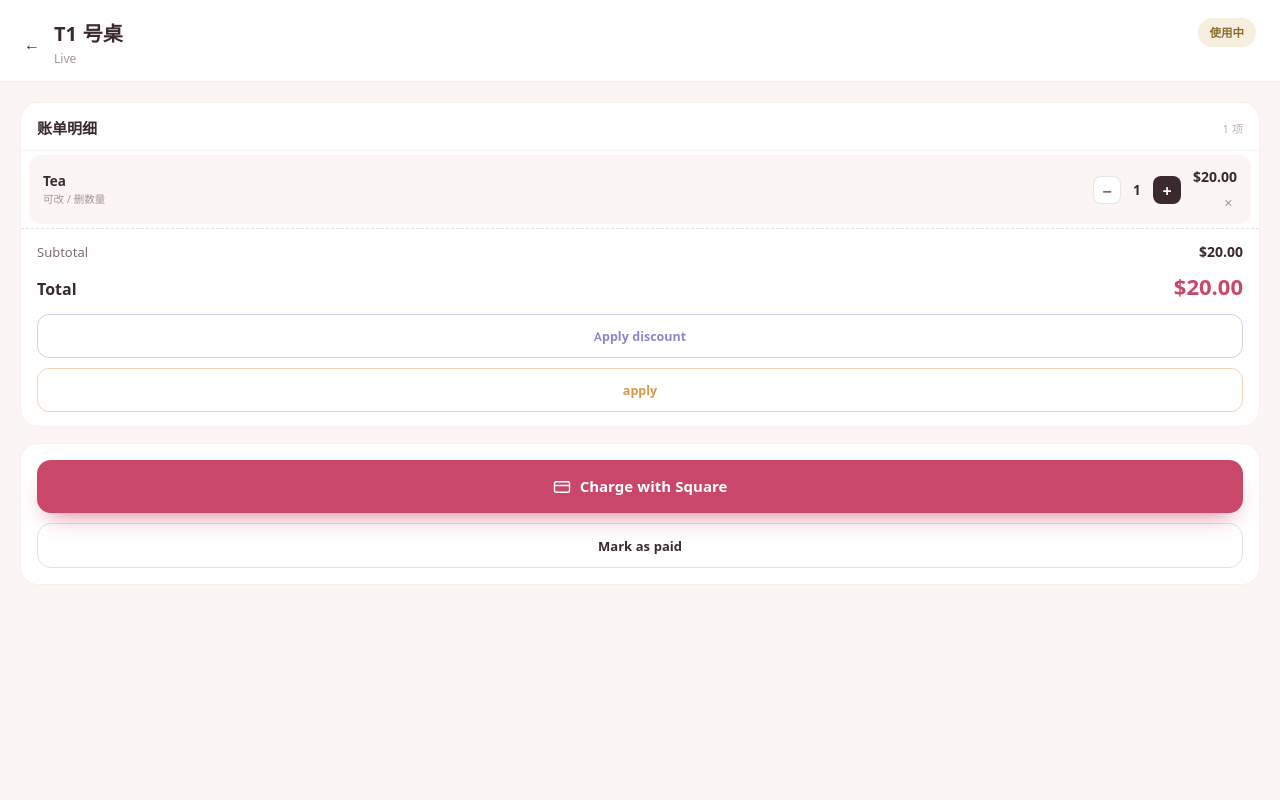
Test case: TableDetail — apply discount › surfaces a 422 invalid-value backend error
Click the button "Apply discount" at [640, 336], box [37, 314, 1243, 358]
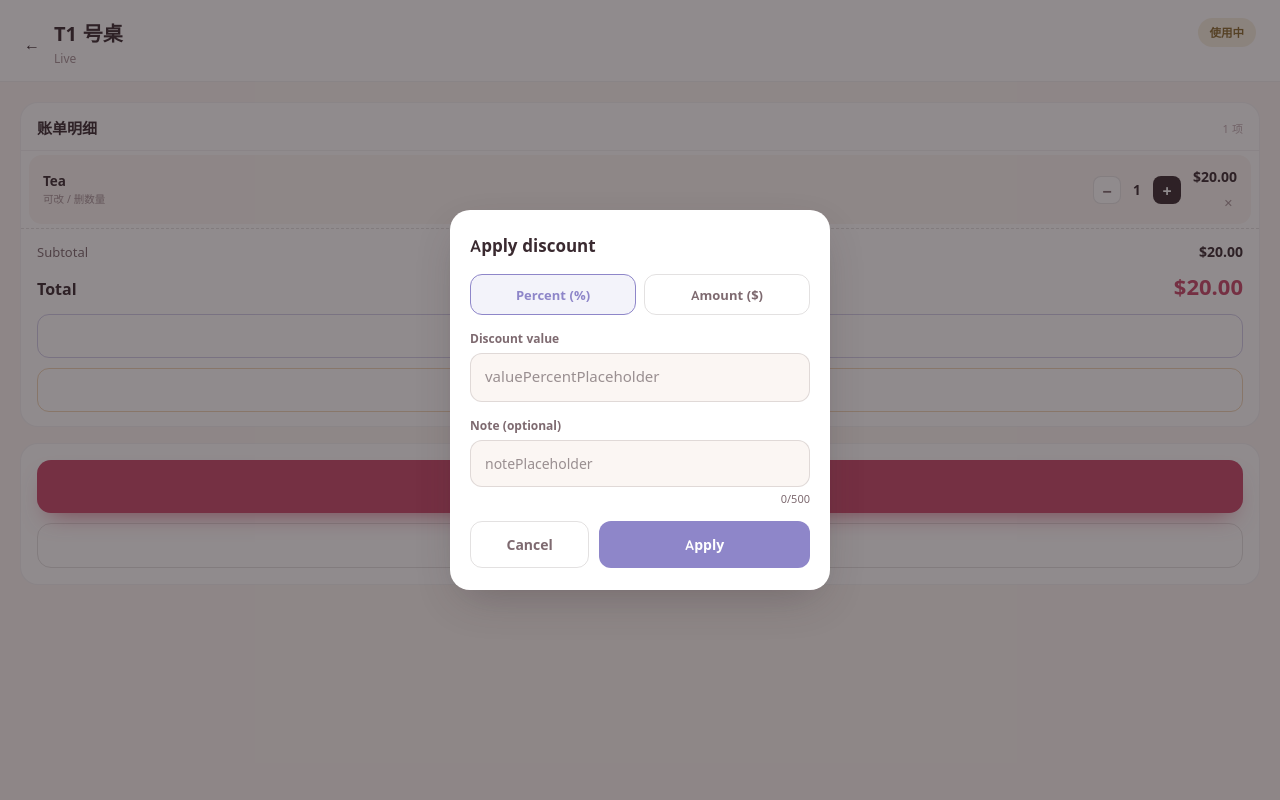
Type "10" into the number field labelled "Discount value" at [640, 377], box [470, 353, 810, 402]
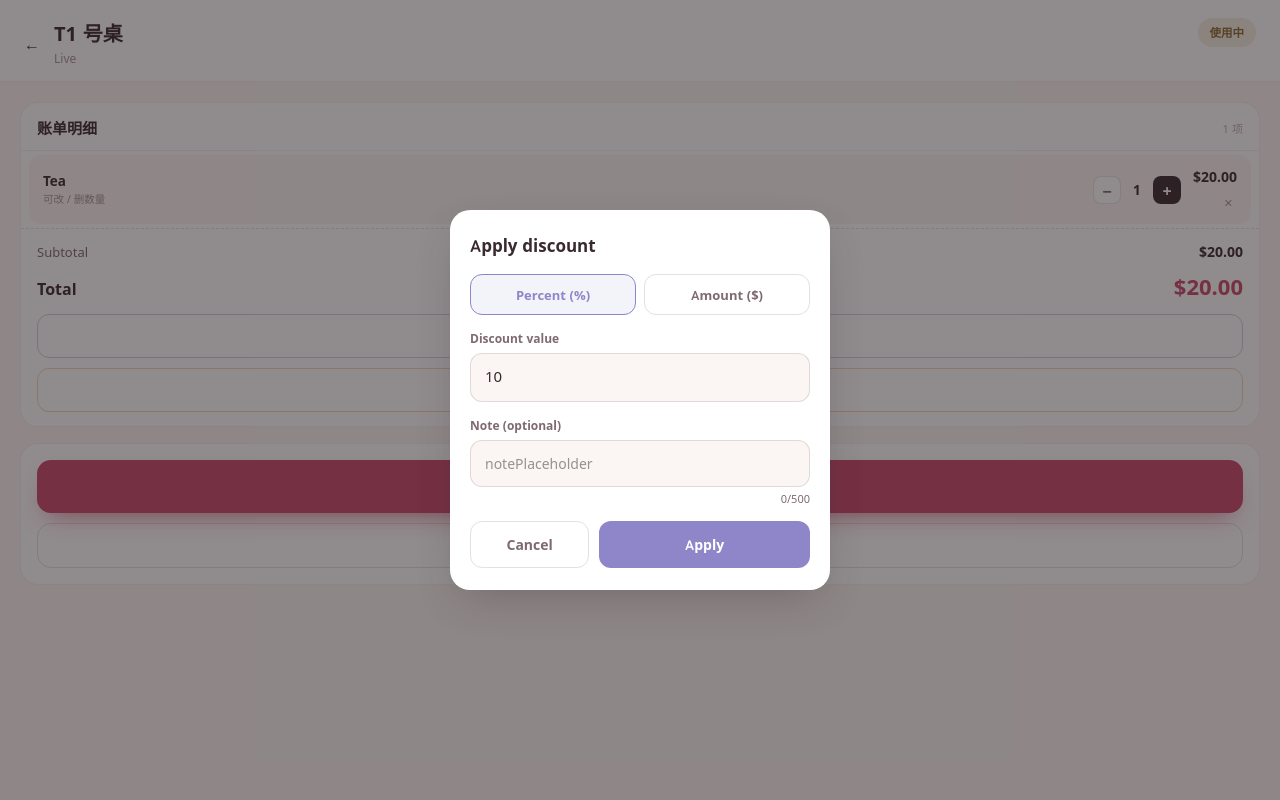
Click the button "Apply" at [705, 544], box [599, 521, 810, 568]
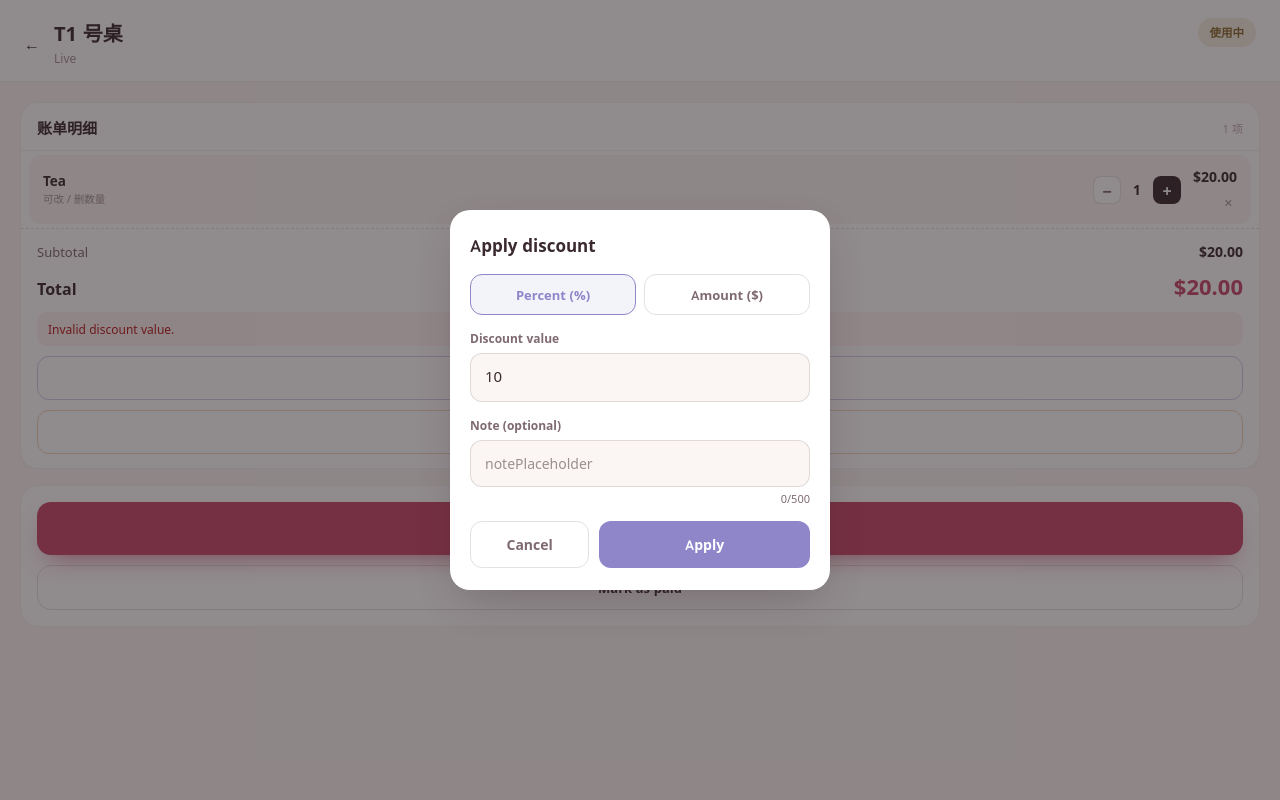
Now the text "Invalid discount value." is shown, box [37, 312, 1243, 346]
